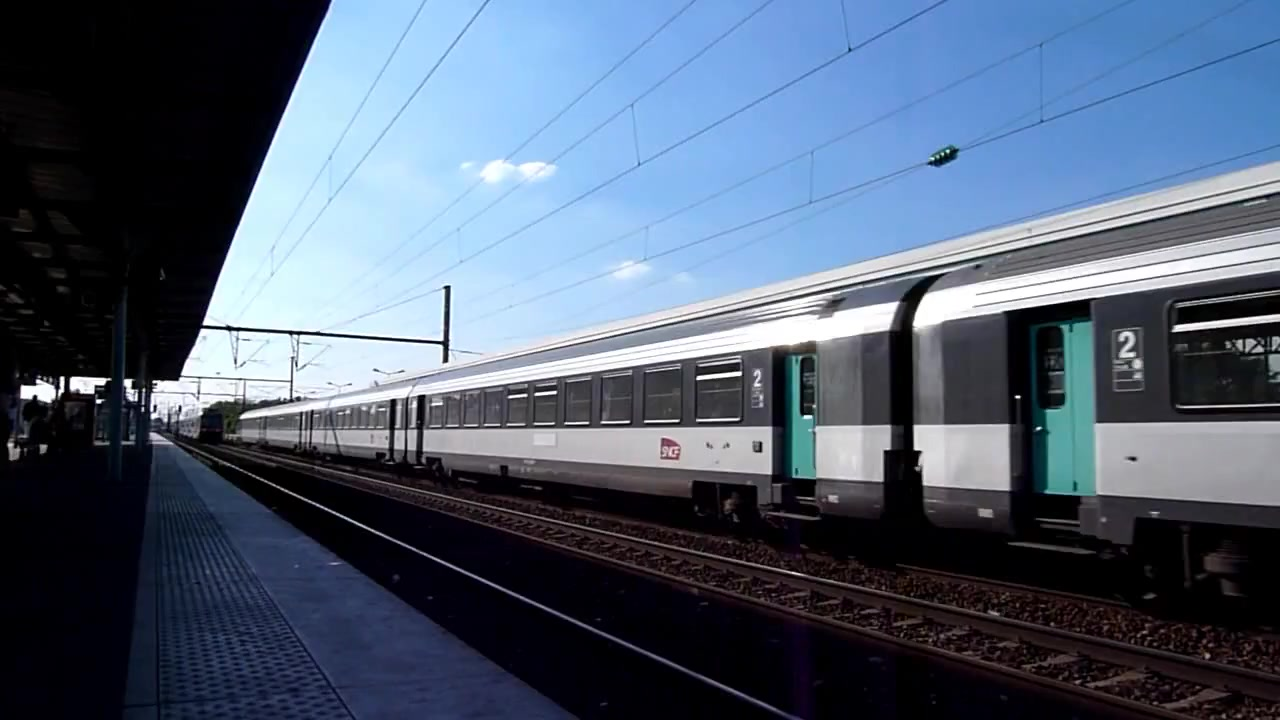train: (236, 162, 1280, 623)
